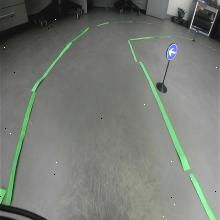left: (166, 43, 178, 59)
